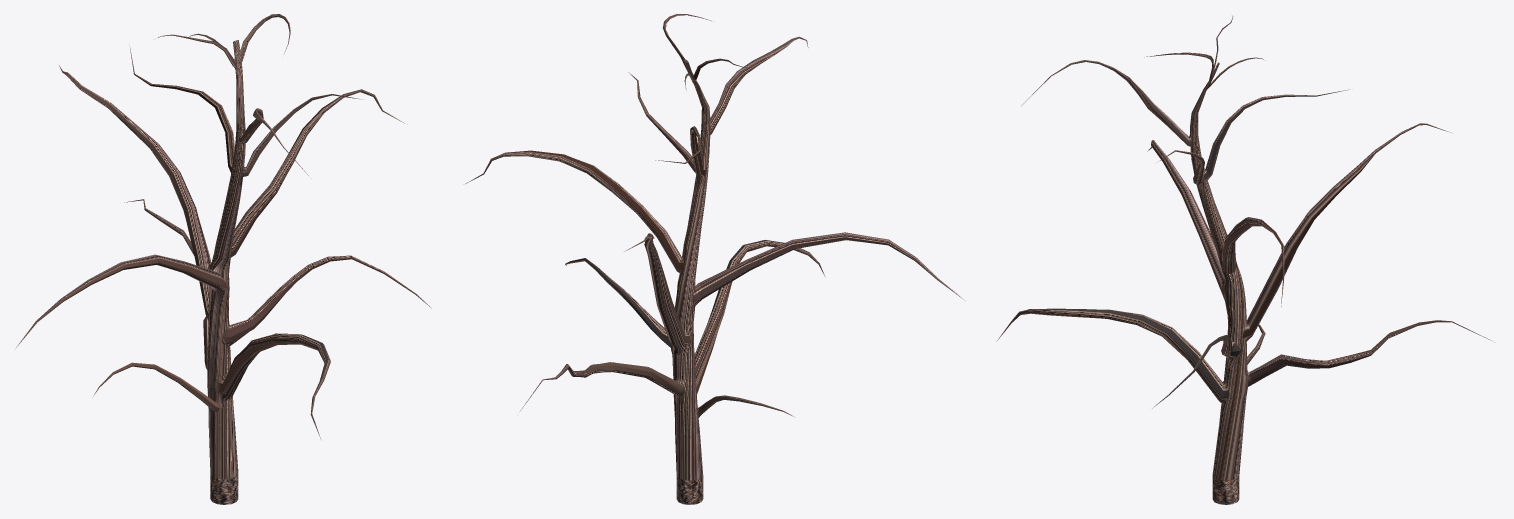
Rendered from TreeNoLeaf.fbx.
3 renders of one model, left to right at view 1: azimuth 30°, elevation 25°; view 2: azimuth 150°, elevation 25°; view 3: azimuth 270°, elevation 25°, orthographic. The views are drawn at different scales.
Parts seen in each view (by area): view 1: pCylinder2; view 2: pCylinder2; view 3: pCylinder2.
Boxes of the visible parts, x1=… form: pCylinder2: x1=16, y1=14, x2=431, y2=504; pCylinder2: x1=465, y1=14, x2=963, y2=504; pCylinder2: x1=996, y1=15, x2=1493, y2=504.
Bounding box in the file's own units: 481 × 482 × 473.
Materials: 1 (1 with a texture image).
